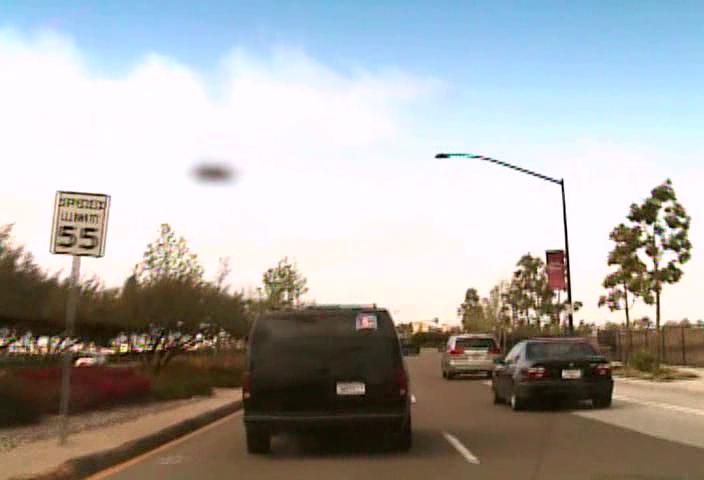speedLimit55: (48, 189, 111, 258)
